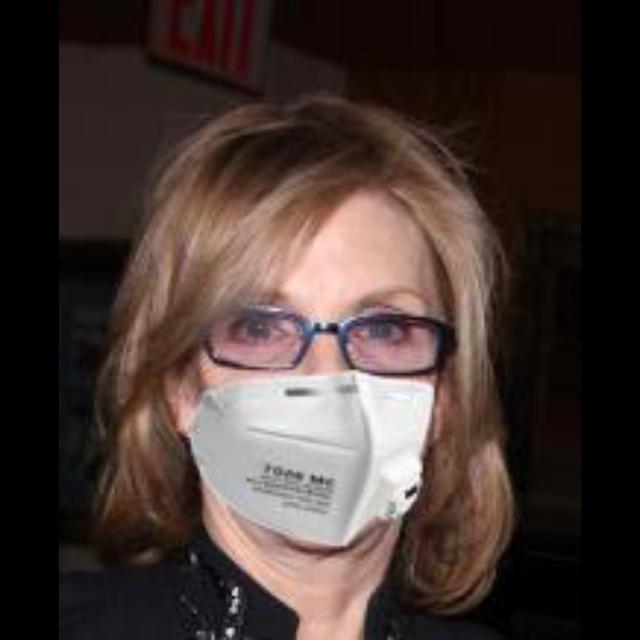suspicion: (187, 144, 471, 522)
